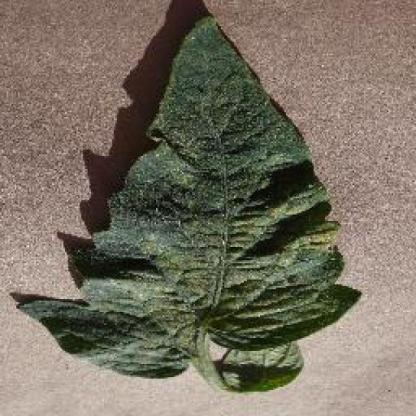Tomato_Spider_Mites: (18, 16, 361, 390)
